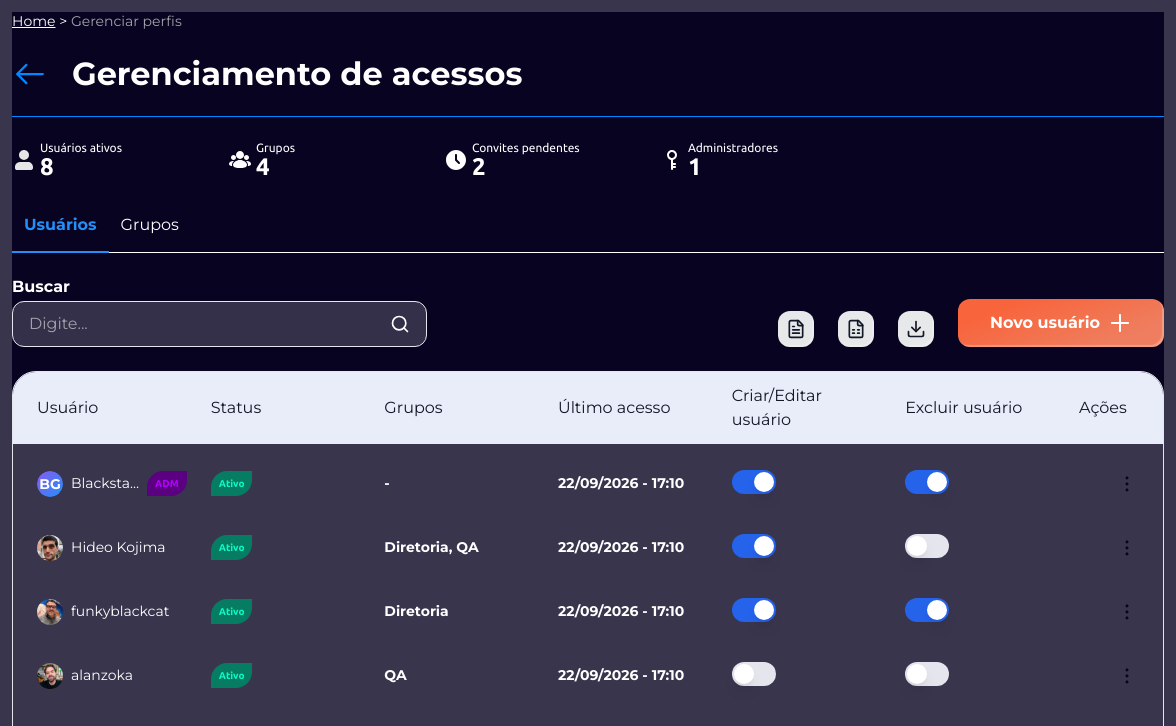
Scenario: troca para a aba Grupos e muda o CTA
expect the text "Hideo Kojima" is shown: met, box [71,538,166,557]
O Tabs do Radix troca de aba no mousedown, não no click.
Press the mouse on the tab "Grupos": (150, 228) [109,203,191,253]
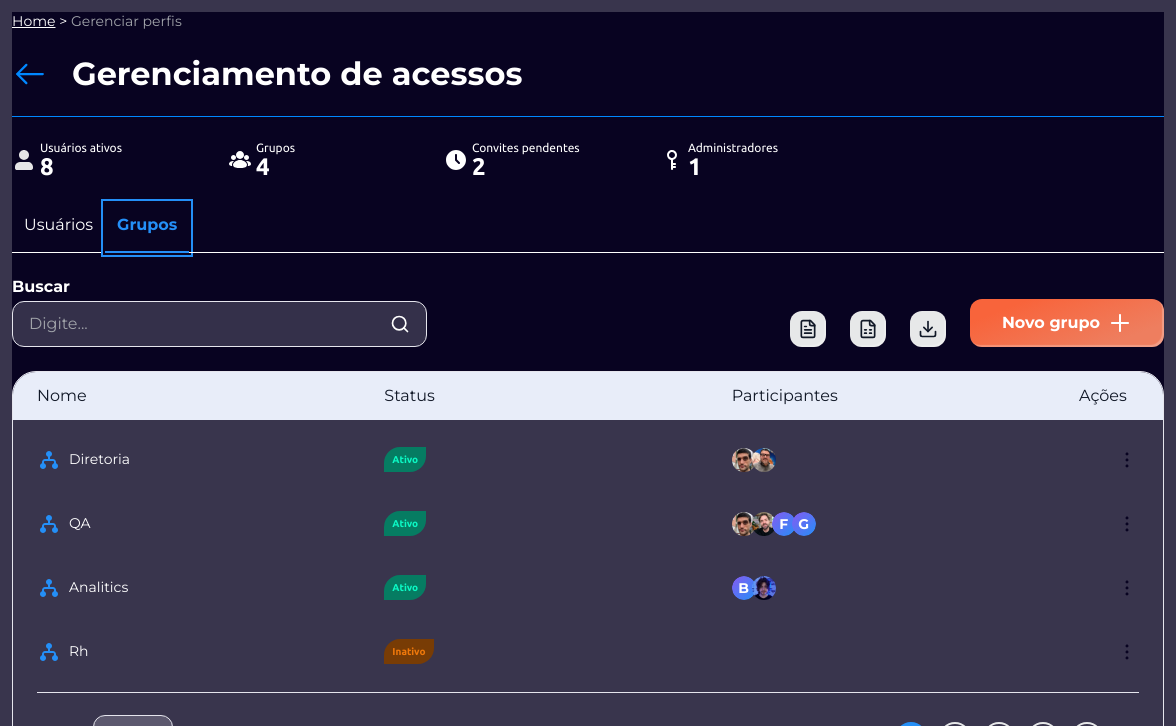
expect the button "Novo grupo" is shown: met, box [970,299,1164,347]
expect the text "Participantes" is shown: met, box [732,386,838,405]
expect the text "Último acesso" is gone: met
